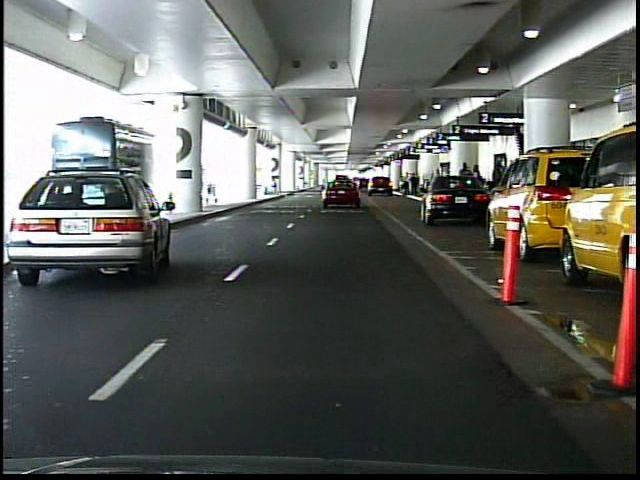person: (458, 161, 474, 206), (471, 164, 485, 206), (403, 171, 411, 197), (411, 173, 419, 197), (397, 174, 404, 189)
